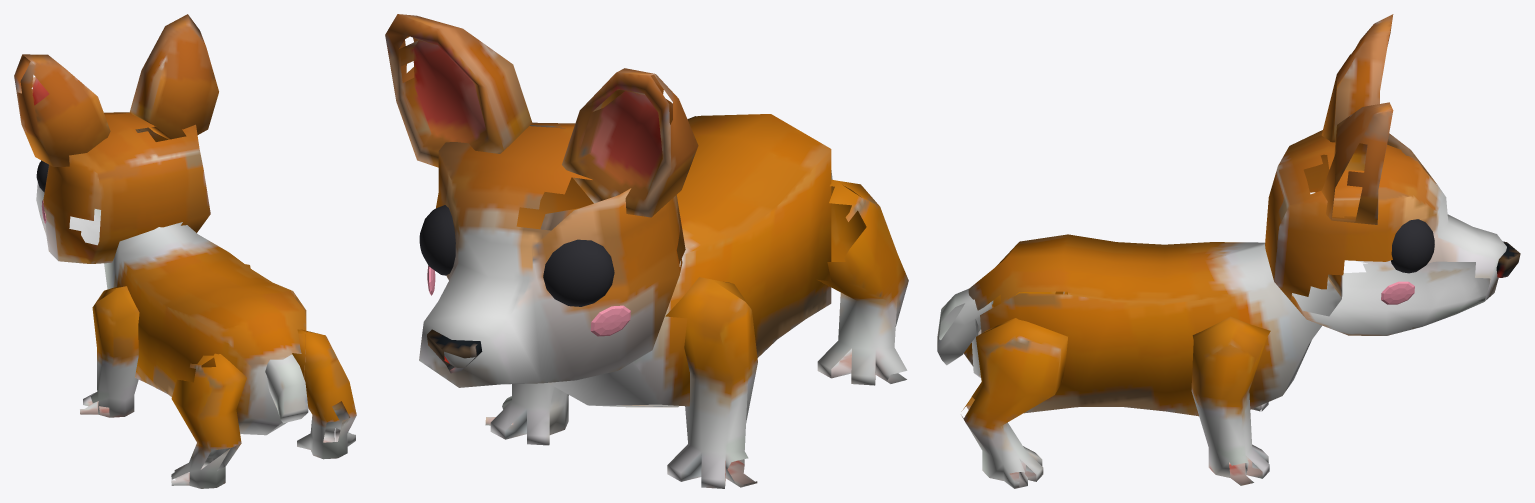
Rendered from Corgi1_NEW.fbx.
3 renders of one model, left to right at view 1: azimuth 30°, elevation 25°; view 2: azimuth 150°, elevation 25°; view 3: azimuth 270°, elevation 25°, orthographic. The views are drawn at different scales.
Visible parts, largest first — view 1: Corgi1_NEW.001; view 2: Corgi1_NEW.001, Corgi1_NEW_Eyes, Corgi1_NEW_Blush; view 3: Corgi1_NEW.001, Corgi1_NEW_Eyes, Corgi1_NEW_Blush.001.
Part boxes in pixels (box(x1,y1,x2,y2)): Corgi1_NEW.001: box(14, 14, 356, 488); Corgi1_NEW.001: box(385, 14, 908, 488); Corgi1_NEW_Eyes: box(419, 205, 614, 306); Corgi1_NEW_Blush: box(590, 305, 630, 336); Corgi1_NEW.001: box(937, 14, 1520, 488); Corgi1_NEW_Eyes: box(1391, 219, 1434, 273); Corgi1_NEW_Blush.001: box(1381, 281, 1414, 304).
Size of the model in its own units: 387 by 622 by 882.
3 materials, 1 textured.
